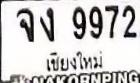2: (122, 4, 136, 37)
7: (104, 4, 118, 38)
9: (71, 6, 85, 39), (88, 5, 102, 38)
A07: (39, 6, 54, 41)
A08: (16, 7, 33, 41)
CMI: (40, 49, 106, 70)
